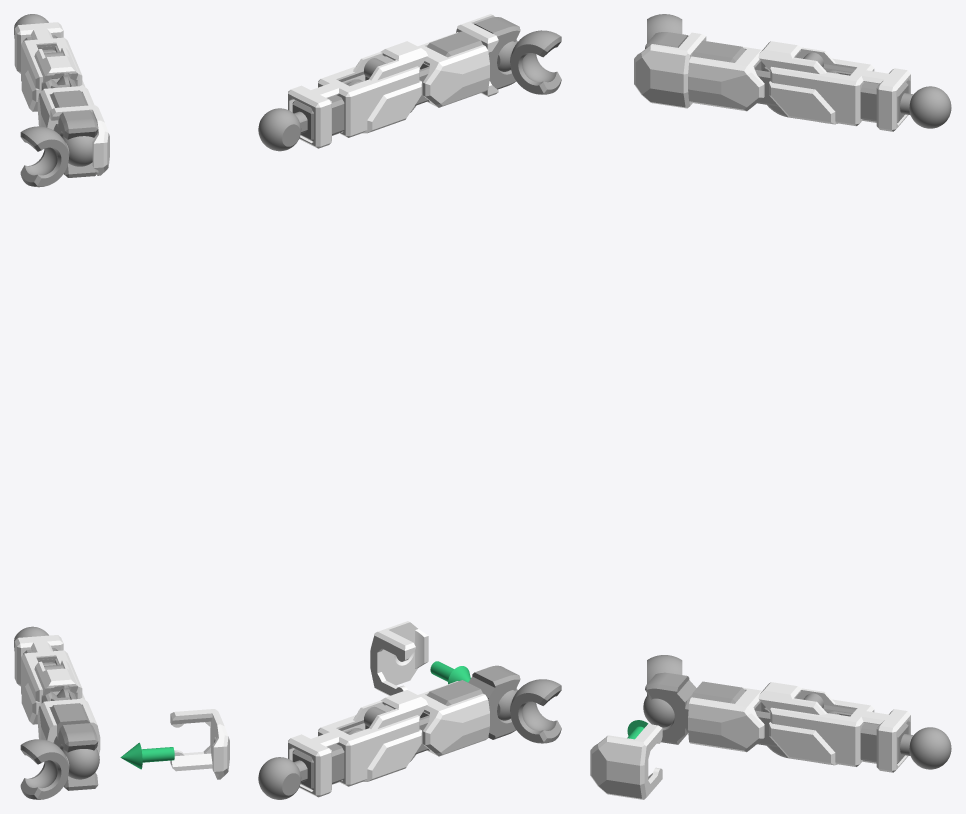
The model's file is shoulder_b.glb.
3 renders of one model, left to right at view 1: azimuth 30°, elevation 25°; view 2: azimuth 150°, elevation 25°; view 3: azimuth 270°, elevation 25°, orthographic. The views are drawn at different scales.
Visible parts, largest first — view 1: Body1.044, Body1.052, Body1.046, Body1.038, Body1.050, Body1.047, Body1.039, Body1.042, Body1.051, Body1.048, Body1.043, Body1.040 (+3 smaller); view 2: Body1.044, Body1.052, Body1.043, Body1.051, Body1.050, Body1.046, Body1.038, Body1.041, Body1.049, Body1.047, Body1.039, Body1.040 (+3 smaller); view 3: Body1.044, Body1.052, Body1.050, Body1.051, Body1.043, Body1.042, Body1.049, Body1.041, Body1.047, Body1.046, Body1.048, Body1.040 (+1 smaller).
Boxes of the visible parts, box(x1,y1,x2,y2) form: Body1.044: box(14, 22, 85, 111); Body1.052: box(14, 635, 84, 724); Body1.046: box(20, 739, 99, 799); Body1.038: box(20, 126, 95, 187); Body1.050: box(170, 709, 229, 779); Body1.047: box(53, 723, 98, 790); Body1.039: box(53, 110, 98, 177); Body1.042: box(50, 105, 109, 175); Body1.051: box(37, 698, 100, 754); Body1.048: box(41, 688, 90, 744); Body1.043: box(37, 86, 94, 130); Body1.040: box(41, 75, 88, 132); Body1.044: box(288, 41, 427, 148); Body1.052: box(288, 690, 427, 797); Body1.043: box(418, 32, 489, 107); Body1.051: box(418, 681, 489, 756); Body1.050: box(370, 621, 428, 695); Body1.046: box(497, 679, 561, 743); Body1.038: box(497, 30, 561, 94); Body1.041: box(258, 79, 362, 151); Body1.049: box(258, 728, 362, 799); Body1.047: box(468, 665, 520, 739); Body1.039: box(474, 17, 520, 89); Body1.040: box(415, 31, 482, 105); Body1.044: box(758, 41, 910, 131); Body1.052: box(758, 682, 910, 772); Body1.050: box(590, 724, 662, 799); Body1.051: box(688, 687, 764, 752); Body1.043: box(688, 47, 764, 111); Body1.042: box(634, 32, 706, 108); Body1.049: box(827, 711, 951, 769); Body1.041: box(827, 70, 951, 128); Body1.047: box(645, 672, 696, 744); Body1.046: box(643, 655, 682, 727); Body1.048: box(692, 681, 778, 747); Body1.040: box(692, 40, 778, 106).
Bounding box in the file's own units: 31.9 × 110 × 51.06.
